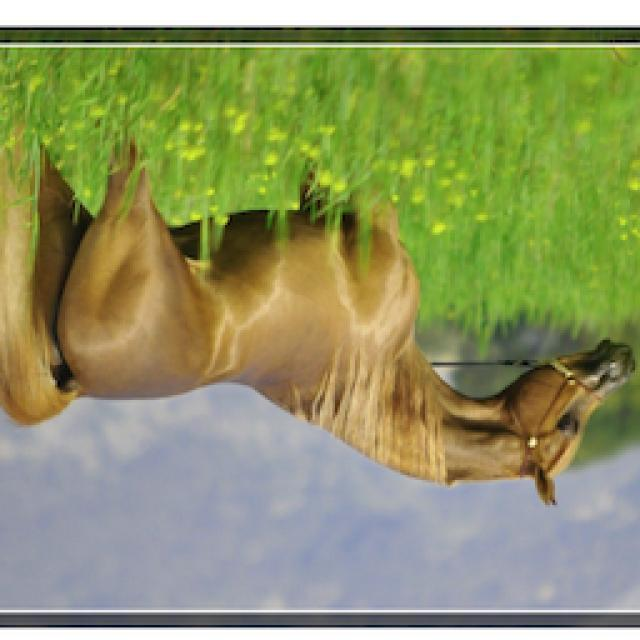Horse: (0, 120, 638, 512)
